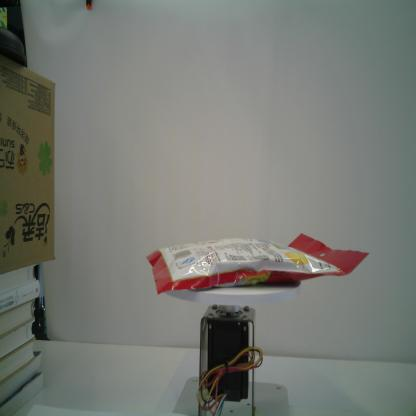Instant Drink: (143, 230, 370, 298)
